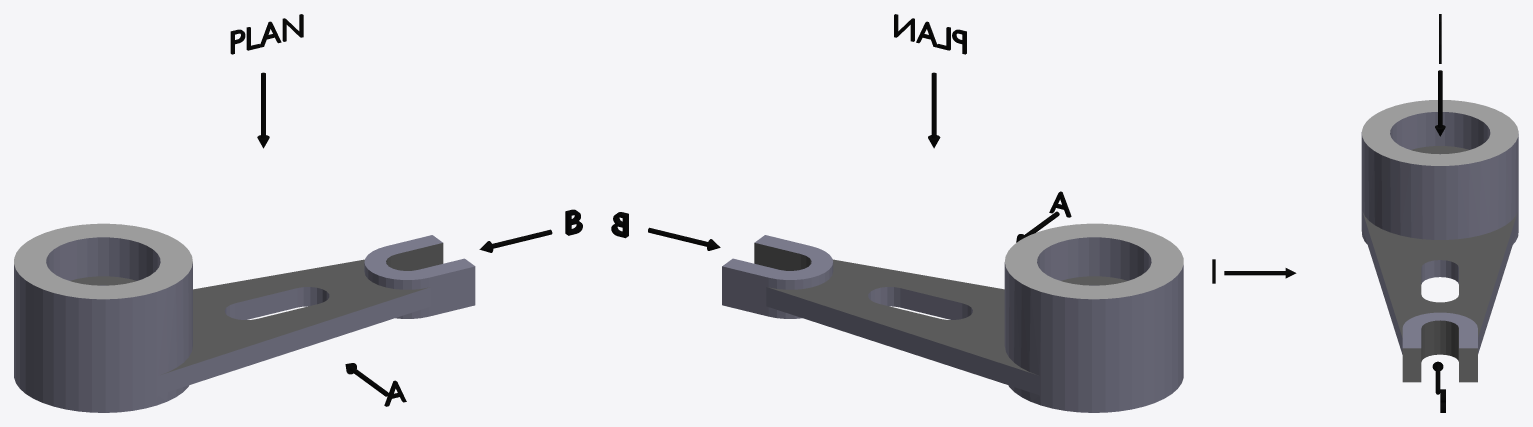
3 renders of one model, left to right at view 1: azimuth 30°, elevation 25°; view 2: azimuth 150°, elevation 25°; view 3: azimuth 270°, elevation 25°, orthographic. The views are drawn at different scales.
Parts seen in each view (by area): view 1: Q1b, Text; view 2: Q1b, Text; view 3: Q1b, Cone, Cone.001.
Part boxes in pixels (x1,y1,x2,y2): Q1b: (14,223,475,412); Text: (230,14,303,54); Q1b: (722,223,1183,412); Text: (894,14,966,54); Q1b: (1361,100,1518,382); Cone: (1224,268,1296,278); Cone.001: (1435,70,1445,136).
Size of the model in its own units: 17.96 by 9.61 by 9.76.
